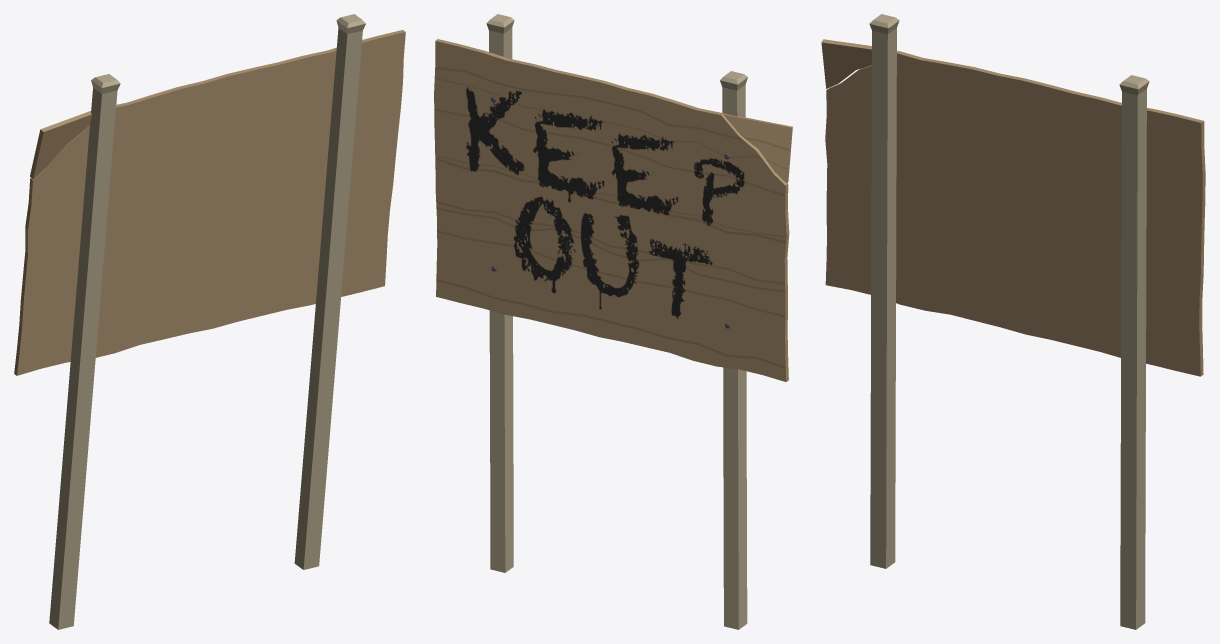
The model's file is turn-back-sign-keep-out.glb.
3 renders of one model, left to right at view 1: azimuth 30°, elevation 25°; view 2: azimuth 150°, elevation 25°; view 3: azimuth 330°, elevation 25°, orthographic. The views are drawn at different scales.
Parts seen in each view (by area): view 1: TurnBackSign; view 2: TurnBackSign; view 3: TurnBackSign.
Part boxes in pixels (box(x1,y1,x2,y2)): TurnBackSign: box(14, 14, 405, 629); TurnBackSign: box(434, 14, 792, 629); TurnBackSign: box(821, 14, 1205, 629).
Bounding box in the file's own units: 0.9264 × 1.3 × 0.1323.
Materials: 4 (1 with a texture image).
